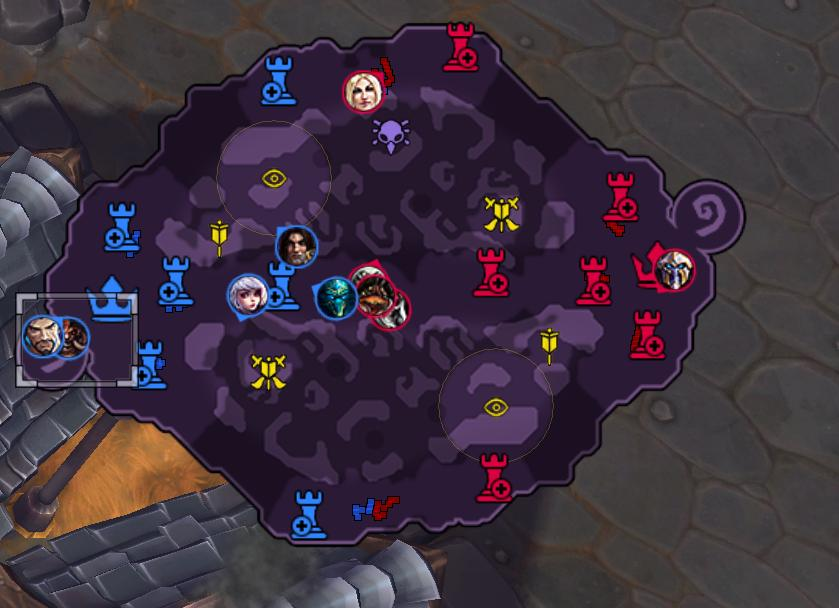blue nexus: (85, 274, 134, 322)
blue player: (313, 275, 357, 321), (227, 272, 269, 320), (21, 314, 64, 359), (275, 224, 317, 268), (55, 315, 90, 360)
blue tower: (152, 249, 202, 316), (123, 334, 177, 394), (254, 54, 302, 109), (102, 200, 142, 254), (289, 488, 328, 539)
red player: (350, 273, 412, 317), (345, 257, 399, 303), (367, 287, 416, 336), (341, 69, 384, 115), (653, 247, 695, 293)
red tower: (470, 447, 524, 512), (622, 303, 676, 363), (599, 168, 649, 227), (471, 246, 510, 298), (574, 254, 612, 307), (442, 21, 479, 73)
